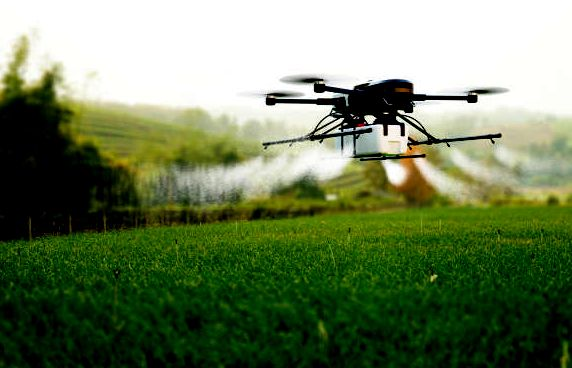Drone: (238, 70, 509, 137)
